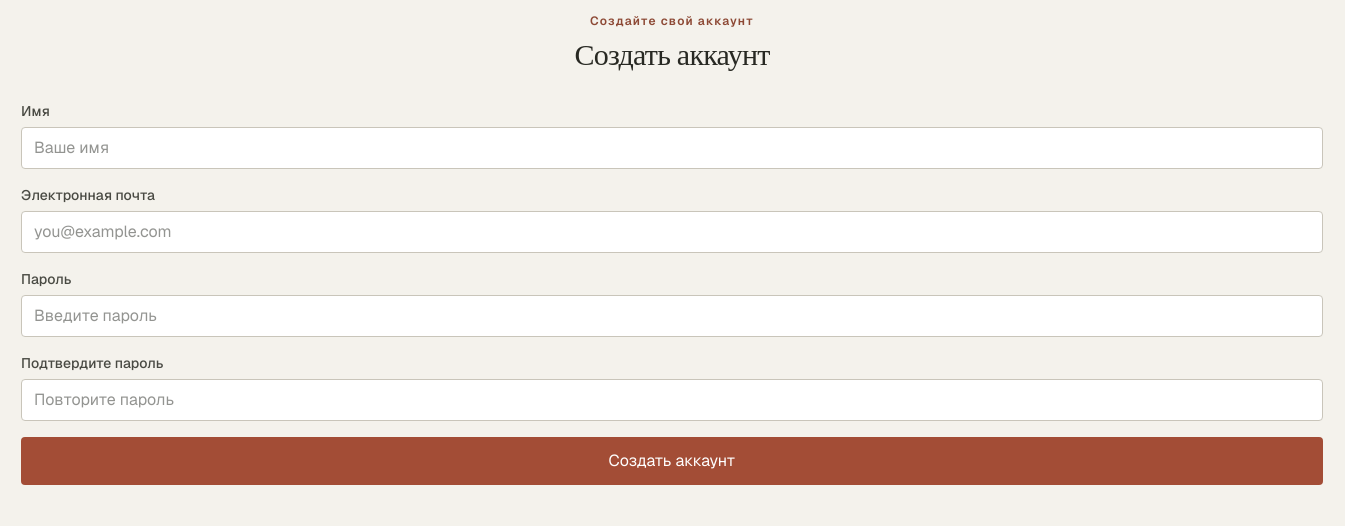
Test: authentication form validation › reports a password mismatch on registration
Type "Иван" into the field labelled "Имя" at (672, 148), box top-left (21, 127), bottom-right (1323, 169)
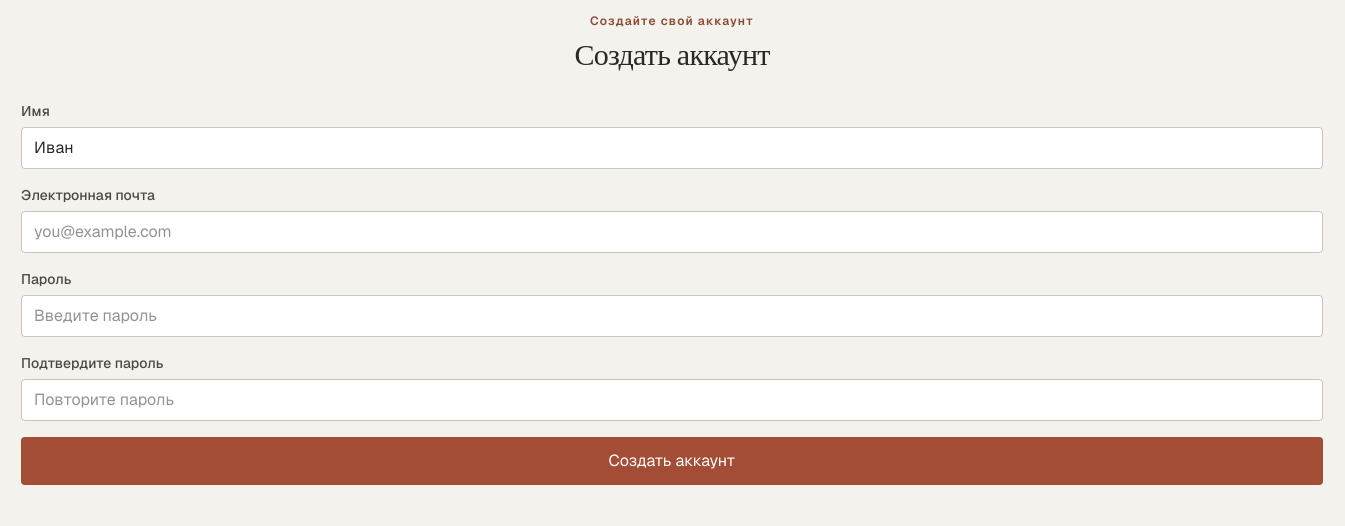
Type "ivan@example.com" into the field labelled "Электронная почта" at (672, 232), box top-left (21, 211), bottom-right (1323, 253)
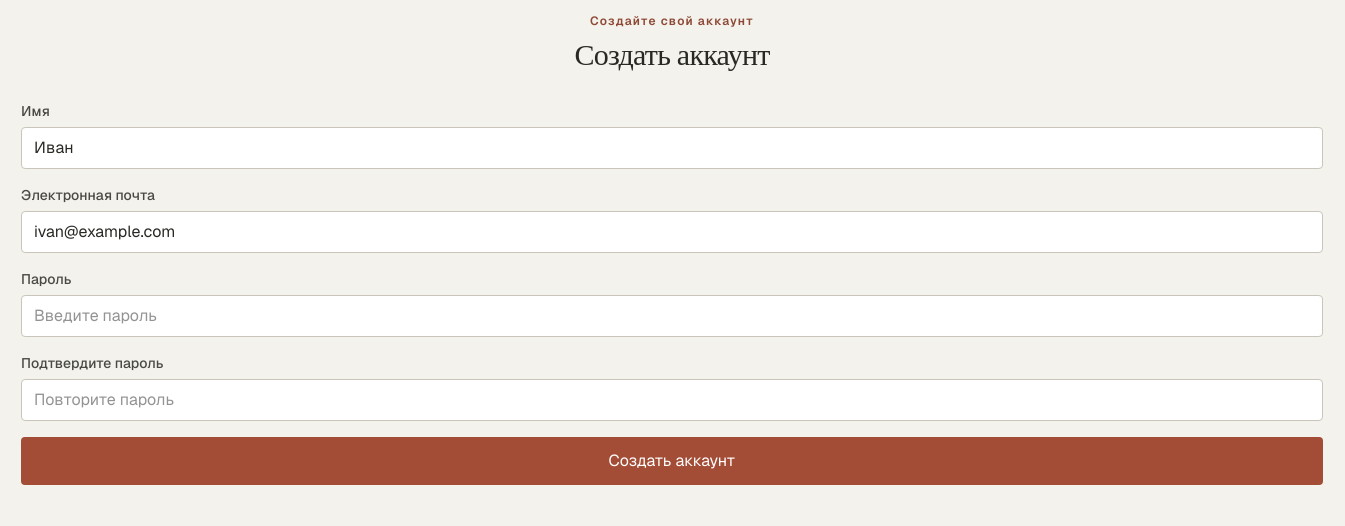
Type "secret1" into the password field labelled "Пароль" at (672, 316), box top-left (21, 295), bottom-right (1323, 337)
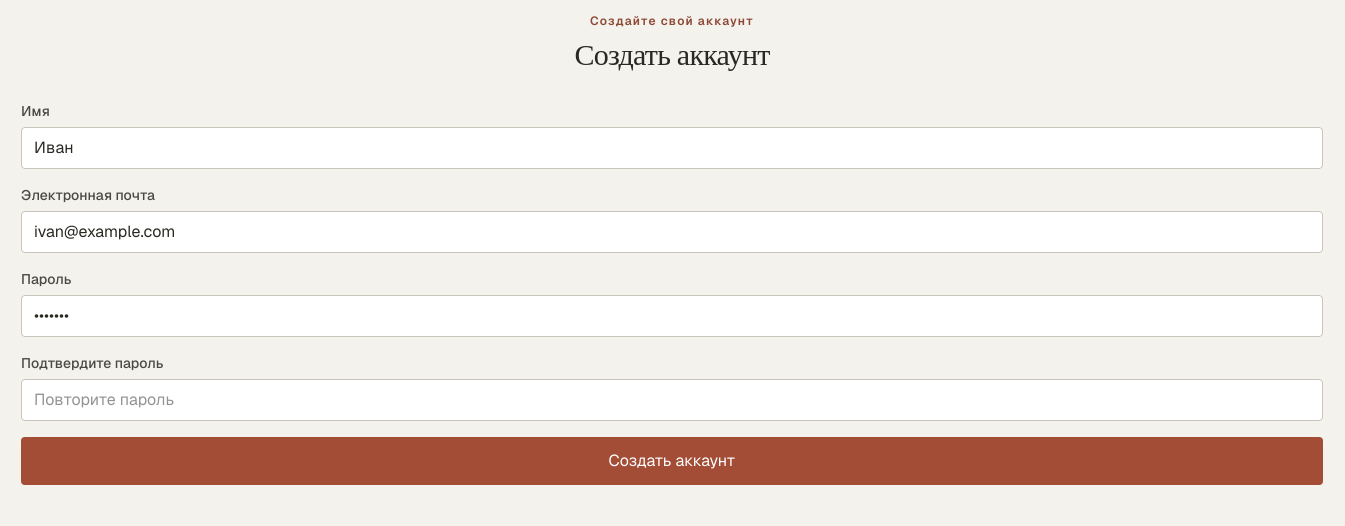
Type "secret2" into the password field labelled "Подтвердите пароль" at (672, 400), box top-left (21, 379), bottom-right (1323, 421)
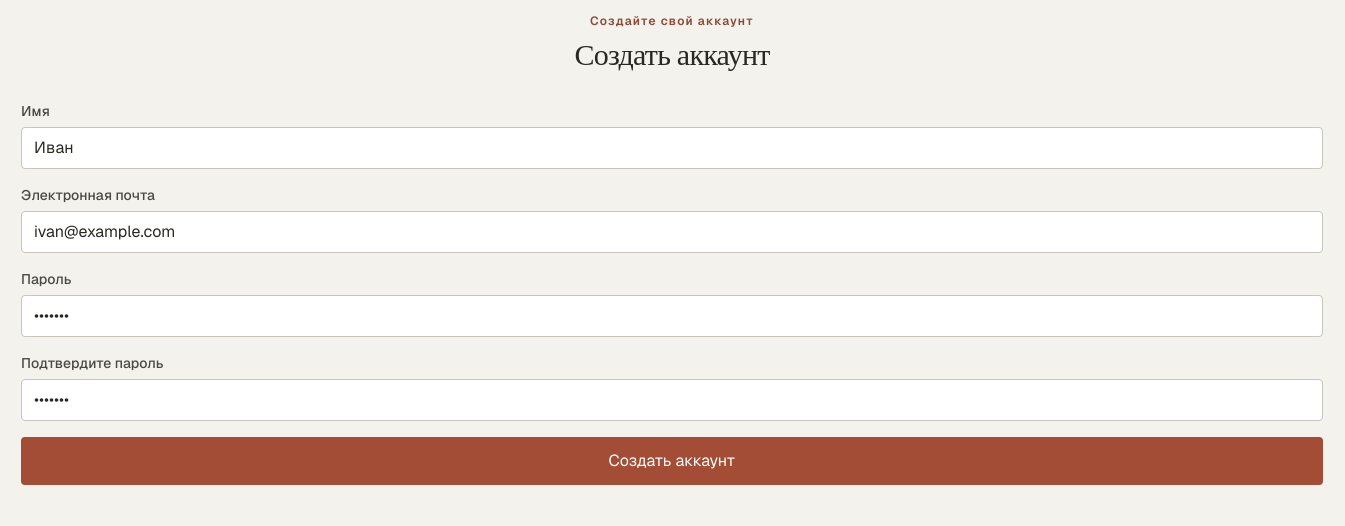
Click the button "Создать аккаунт" at (672, 461), box top-left (21, 437), bottom-right (1323, 485)
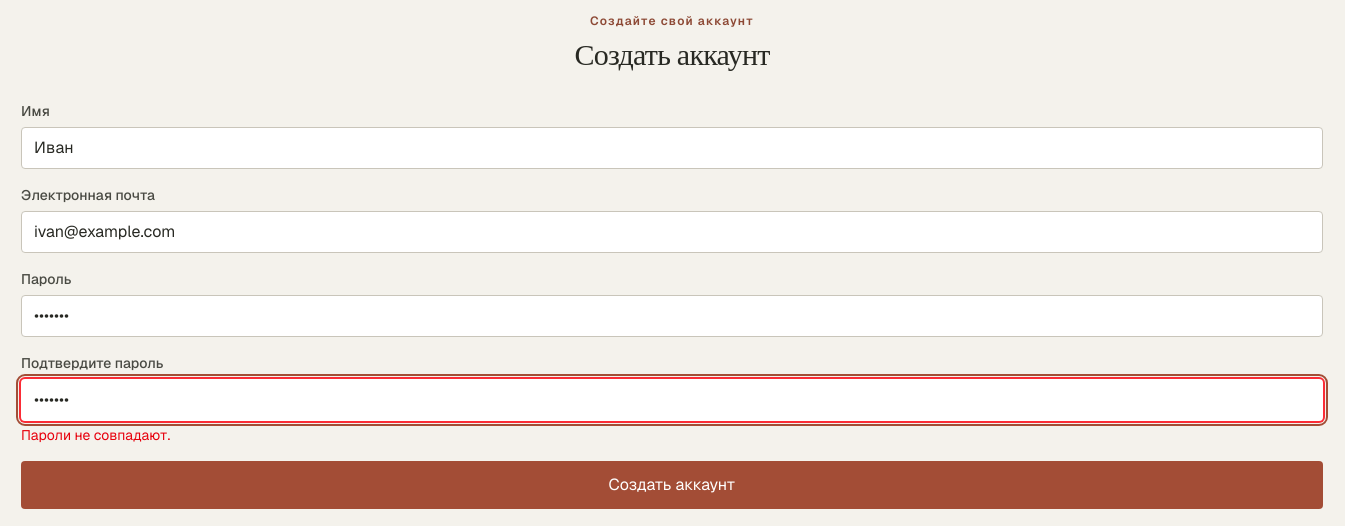
Now the text "Пароли не совпадают." is shown, box top-left (21, 426), bottom-right (170, 444)
